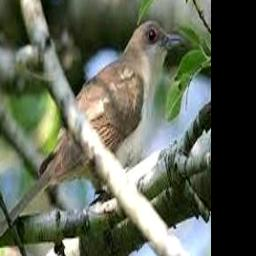Cuckoo: (0, 20, 183, 251)
